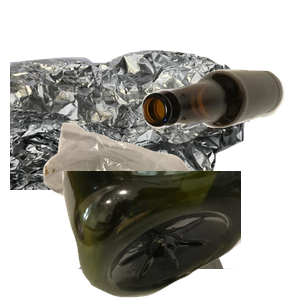glass: (140, 67, 300, 188)
metal: (10, 47, 250, 227)
plastic: (60, 171, 300, 300)
trash: (41, 120, 276, 300)
